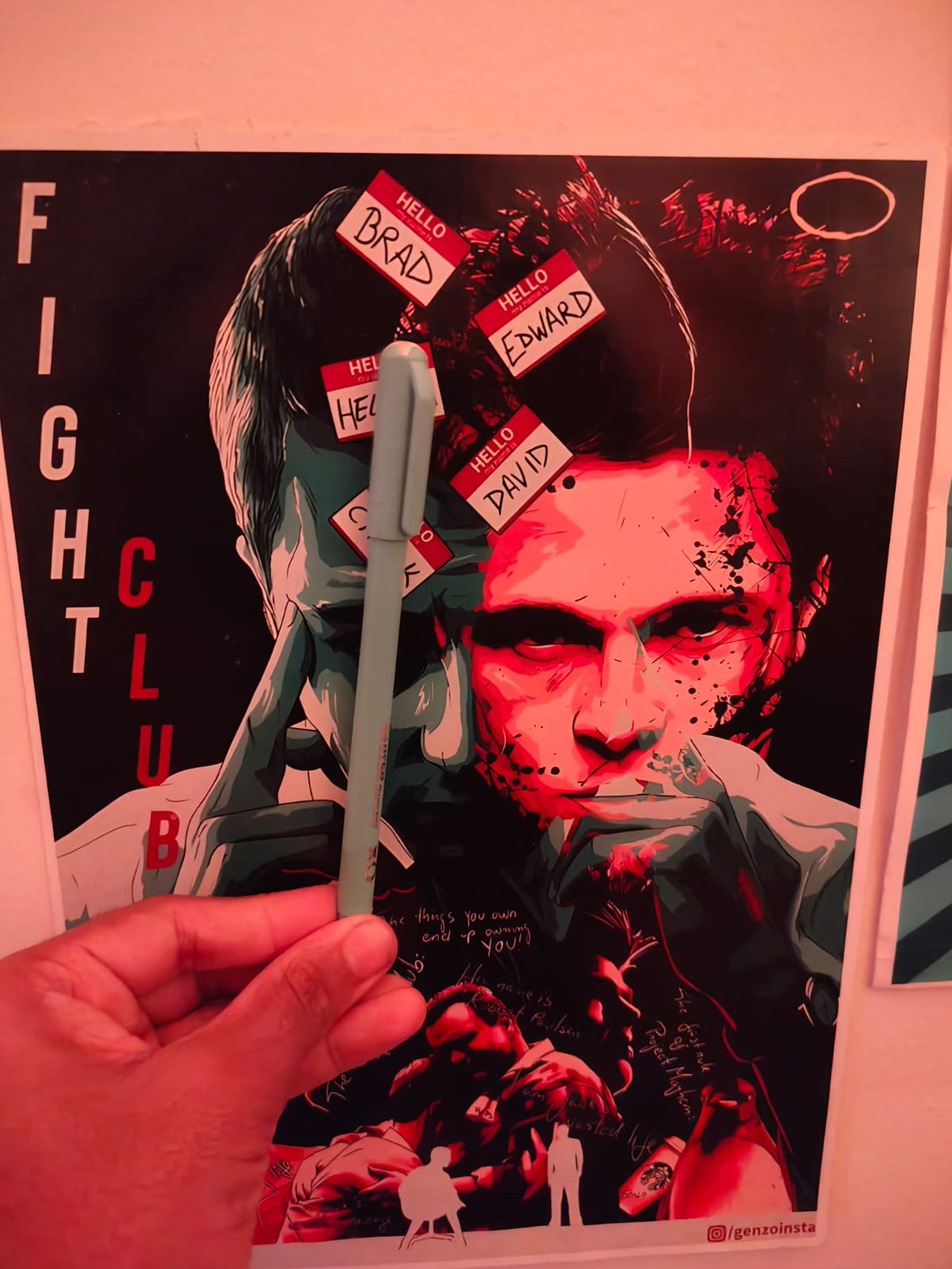pen: (317, 324, 465, 959)
